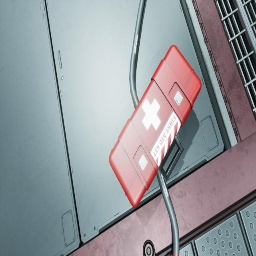FirstAidBox ,: (109, 45, 202, 208)
